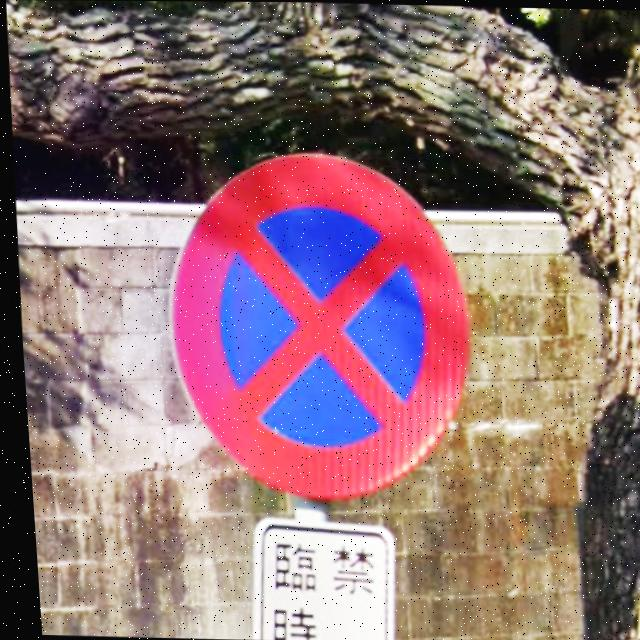nostop: (148, 144, 480, 507)
